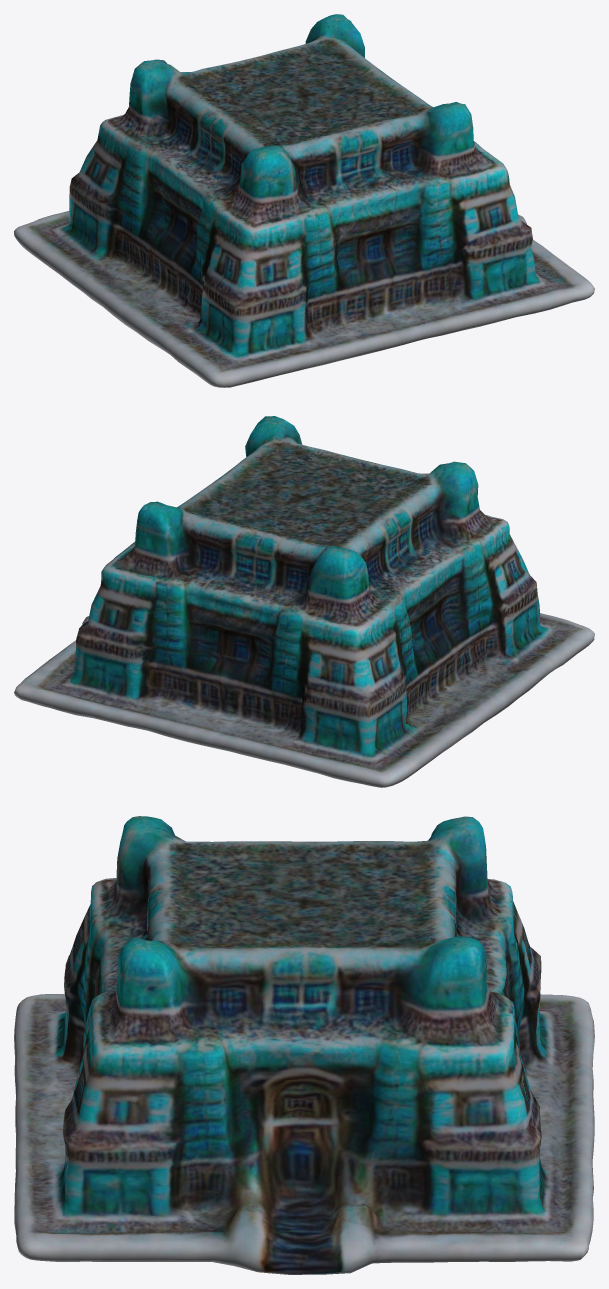
Rendered from 35c1a29e7998_mayan_alien_office_.fbx.
3 renders of one model, top to bottom at view 1: azimuth 30°, elevation 25°; view 2: azimuth 150°, elevation 25°; view 3: azimuth 270°, elevation 25°, orthographic. The views are drawn at different scales.
Visible parts, largest first — view 1: mesh; view 2: mesh; view 3: mesh.
Boxes of the visible parts, <box> form: mesh: <box>14,14,594,387</box>; mesh: <box>14,416,594,787</box>; mesh: <box>14,816,594,1274</box>.
Size of the model in its own units: 99.82 by 45.12 by 92.09.
